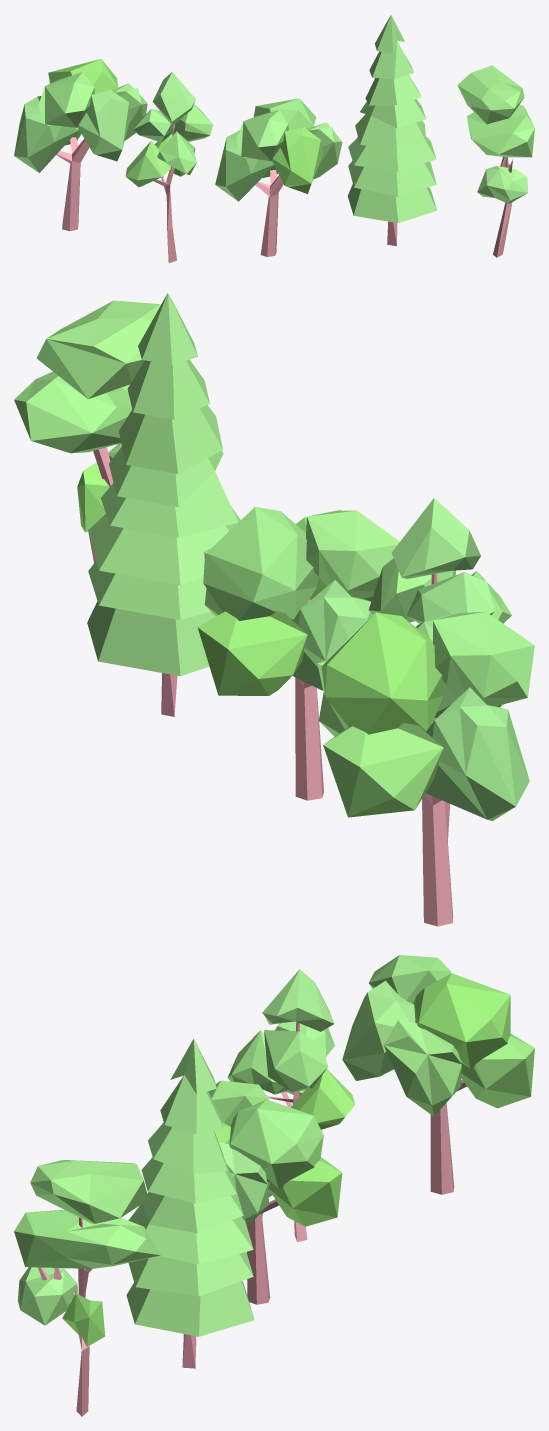
The model's file is ForestSide3.fbx.
3 views of the same model, one above another, from view 1: azimuth 30°, elevation 25°; view 2: azimuth 150°, elevation 25°; view 3: azimuth 270°, elevation 25° (orthographic). The views are drawn at different scales.
Parts seen in each view (by area): view 1: Forest.003; view 2: Forest.003; view 3: Forest.003.
Boxes of the visible parts, x1,y1,x2,y2 form: Forest.003: (14, 15, 534, 263); Forest.003: (14, 293, 534, 926); Forest.003: (14, 955, 534, 1416).
Bounding box in the file's own units: 630 × 360 × 514.
